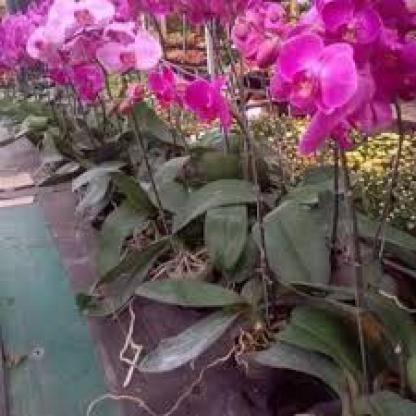ANGGREK: (8, 12, 404, 171)
